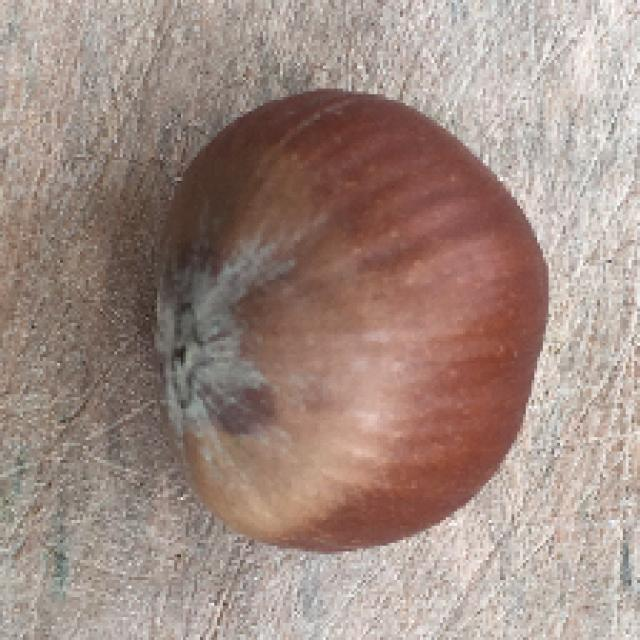DamagedHazelnut: (151, 86, 554, 558)
